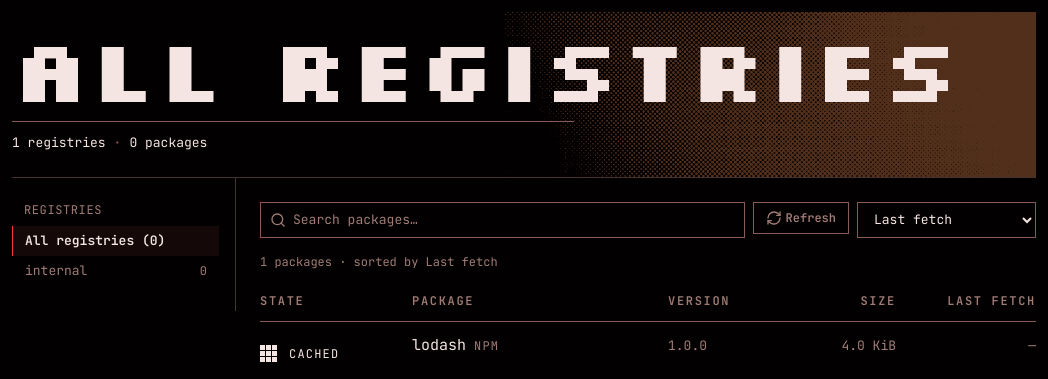
Test: PackageCatalog specimen › drops the upstream fact for a registry that has none
Click the button "internal 0": point(116, 271) [12, 256, 219, 287]
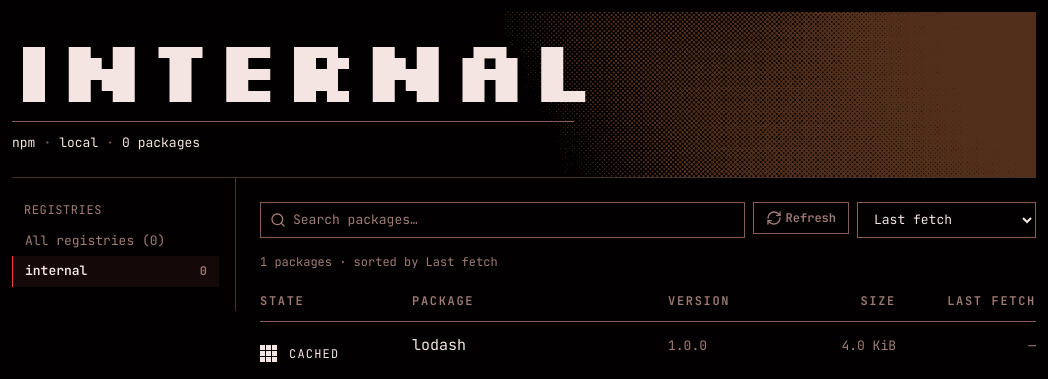
Now the heading with test id "specimen-name" reads "internal", box [12, 12, 598, 124]
Now the element showing "npm·local·0 packages" is shown, box [12, 121, 574, 153]
